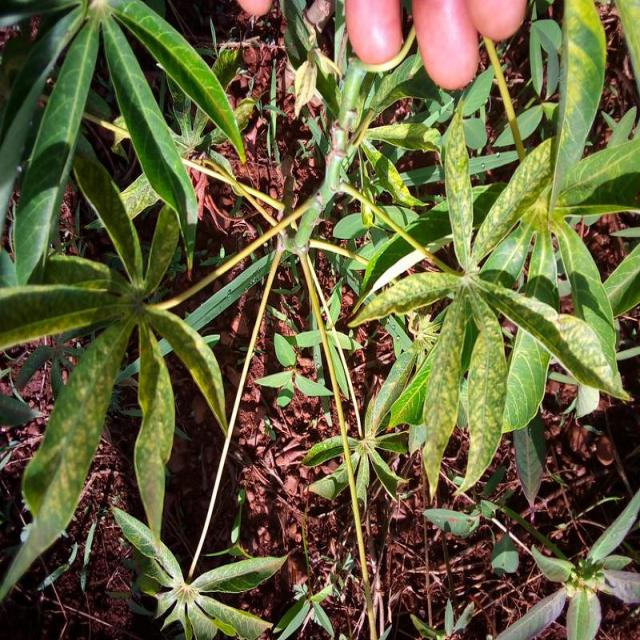cassava leaf: (347, 96, 627, 501)
